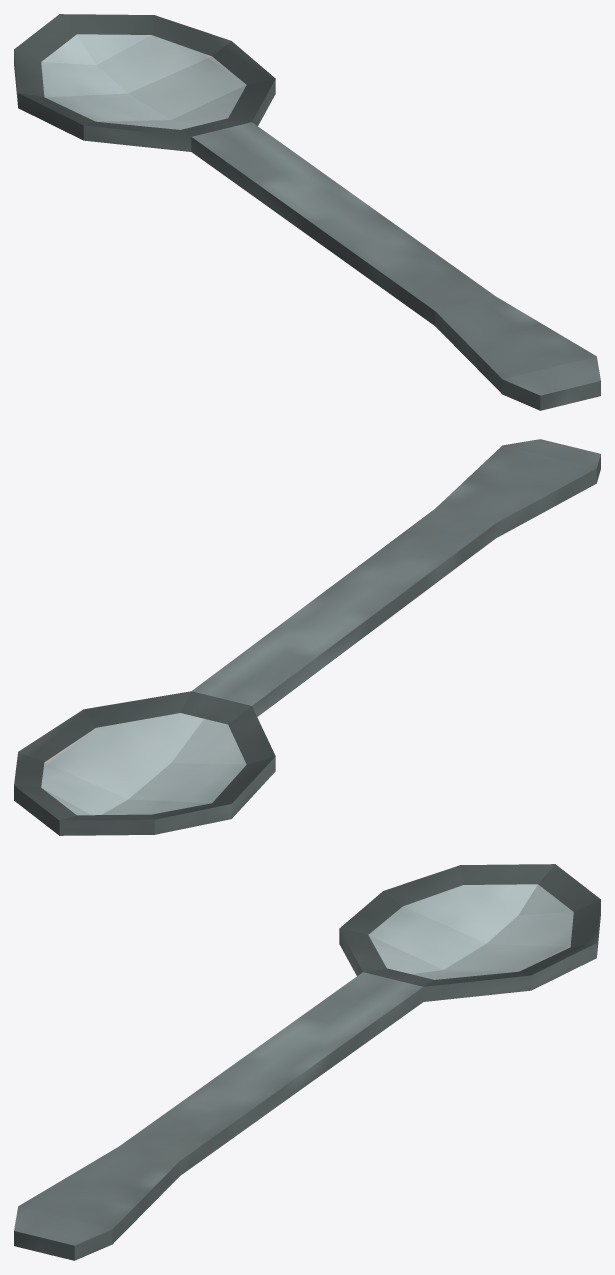
Rendered from SM_SpoonSurfBoard.fbx.
3 views of the same model, one above another, from view 1: azimuth 30°, elevation 25°; view 2: azimuth 150°, elevation 25°; view 3: azimuth 330°, elevation 25° (orthographic).
Visible parts, largest first — view 1: SpoonBoard; view 2: SpoonBoard; view 3: SpoonBoard.
Boxes of the visible parts, box(x1,y1,x2,y2) form: SpoonBoard: box(14, 14, 600, 410); SpoonBoard: box(14, 439, 600, 835); SpoonBoard: box(14, 864, 600, 1260).
Bounding box in the file's own units: 189 × 37.29 × 784.
